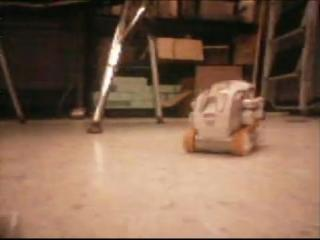cozmo: (182, 79, 266, 156)
